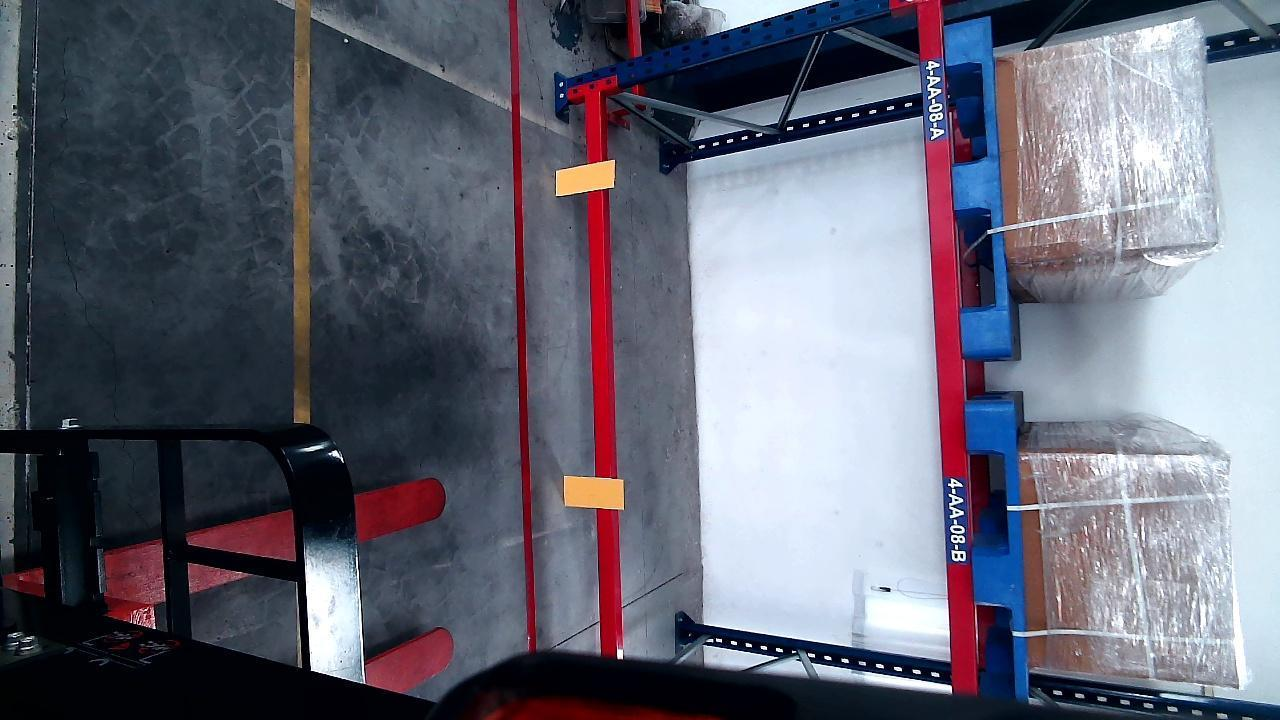h_rack: (917, 1, 978, 689), (582, 93, 622, 655)
orange_strip: (555, 159, 615, 195), (564, 475, 622, 510)
red_line: (506, 0, 536, 651)
small_pallet: (945, 22, 1017, 356), (970, 408, 1027, 687)
yellow_line: (291, 1, 315, 418)
